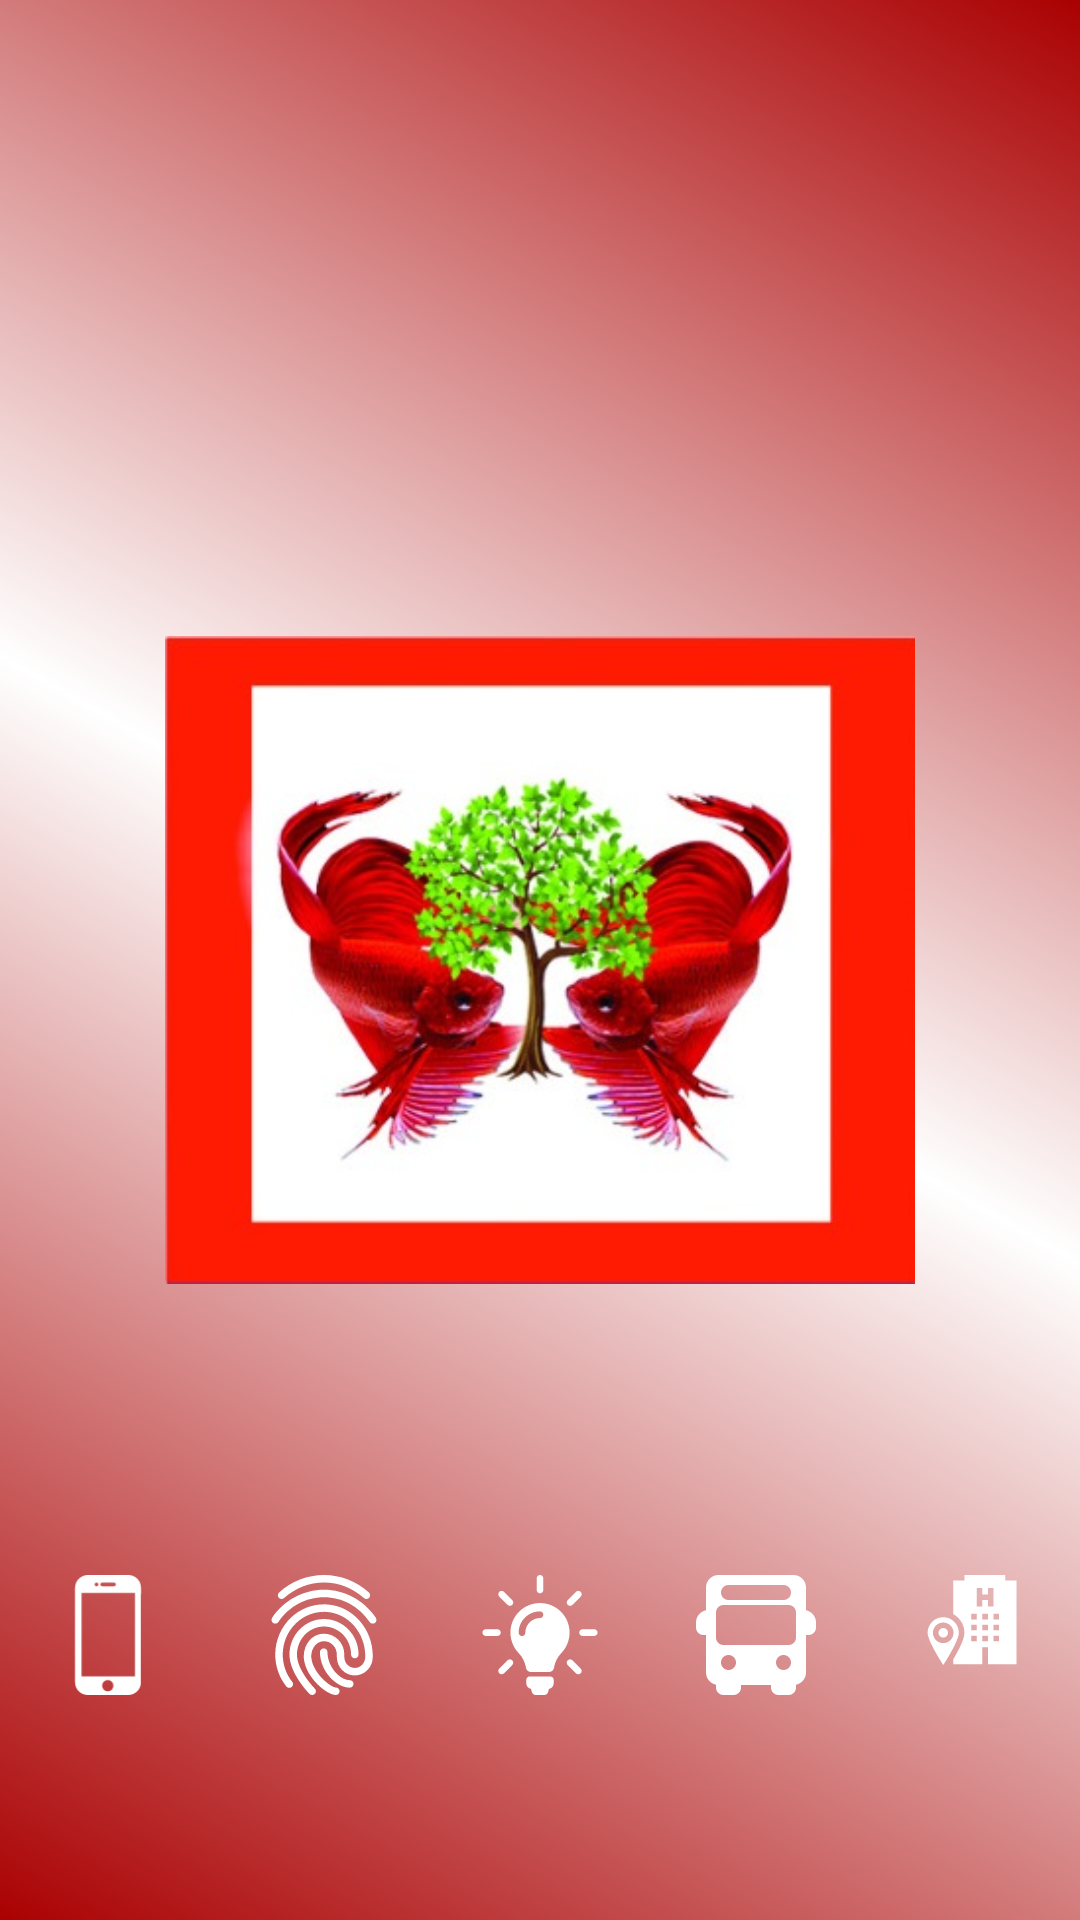

Where to tap for icons on this 1080*1920 app screen, as (x,y):
aeps: (324,1635)
bus: (756,1635)
electricity: (540,1635)
hotel: (972,1620)
prepaid: (108,1635)
